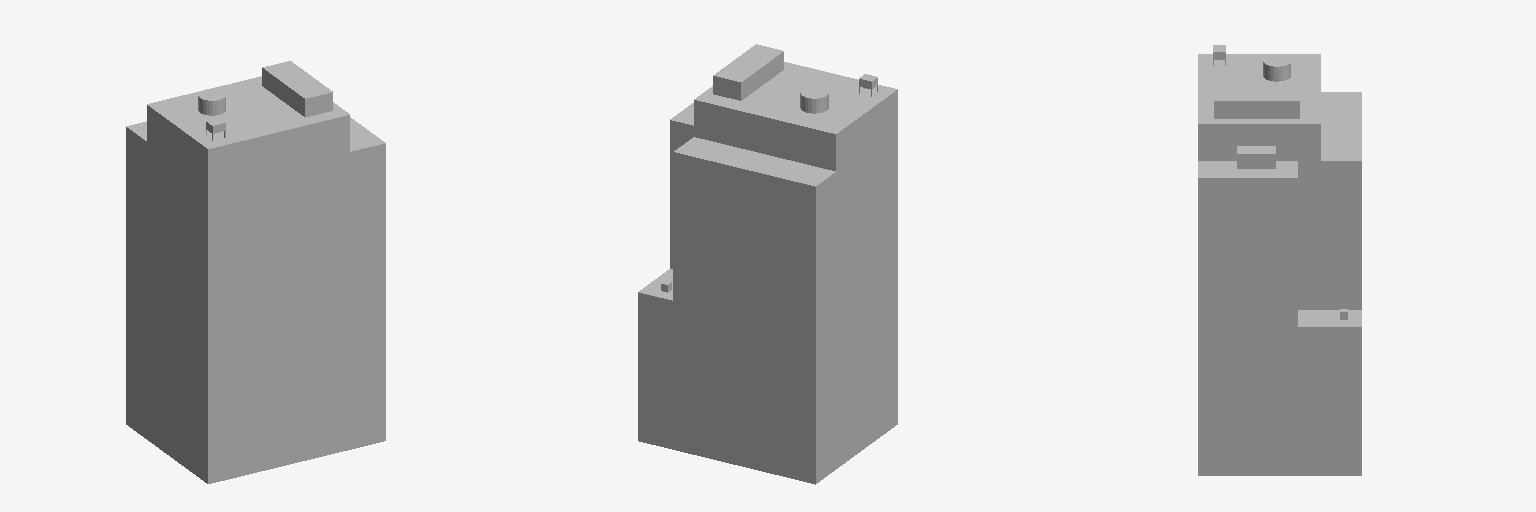
File: highrise-5.obj
3 views of the same model, side by side, from view 1: azimuth 30°, elevation 25°; view 2: azimuth 150°, elevation 25°; view 3: azimuth 270°, elevation 25° (orthographic).
Visible parts, largest first — view 1: Mesh.033_SketchUp_ID2.004, Mesh.029_SketchUp.008_ID2.003, Mesh.003_SketchUp_ID2, Mesh.031_SketchUp.006_ID2.000, Mesh.025_SketchUp.004_ID2.002, Mesh.032_SketchUp.001_ID10.004, Mesh.035_SketchUp.003_ID22.003; view 2: Mesh.003_SketchUp_ID2, Mesh.029_SketchUp.008_ID2.003, Mesh.033_SketchUp_ID2.004, Mesh.025_SketchUp.004_ID2.002, Mesh.031_SketchUp.006_ID2.000, Mesh.032_SketchUp.001_ID10.004, Mesh.035_SketchUp.003_ID22.003; view 3: Mesh.029_SketchUp.008_ID2.003, Mesh.033_SketchUp_ID2.004, Mesh.003_SketchUp_ID2, Mesh.032_SketchUp.001_ID10.004, Mesh.028_SketchUp.009_ID10.003, Mesh.035_SketchUp.003_ID22.003.
Part boxes in pixels (bbox=[...]): Mesh.033_SketchUp_ID2.004: bbox=[147, 76, 349, 483]; Mesh.029_SketchUp.008_ID2.003: bbox=[126, 117, 385, 483]; Mesh.003_SketchUp_ID2: bbox=[126, 121, 349, 482]; Mesh.031_SketchUp.006_ID2.000: bbox=[126, 231, 349, 483]; Mesh.025_SketchUp.004_ID2.002: bbox=[126, 201, 166, 435]; Mesh.032_SketchUp.001_ID10.004: bbox=[262, 61, 332, 117]; Mesh.035_SketchUp.003_ID22.003: bbox=[198, 89, 225, 115]; Mesh.003_SketchUp_ID2: bbox=[673, 137, 897, 484]; Mesh.029_SketchUp.008_ID2.003: bbox=[638, 103, 897, 483]; Mesh.033_SketchUp_ID2.004: bbox=[694, 62, 897, 432]; Mesh.025_SketchUp.004_ID2.002: bbox=[745, 244, 856, 482]; Mesh.031_SketchUp.006_ID2.000: bbox=[754, 204, 897, 483]; Mesh.032_SketchUp.001_ID10.004: bbox=[713, 44, 783, 100]; Mesh.035_SketchUp.003_ID22.003: bbox=[800, 87, 828, 113]; Mesh.029_SketchUp.008_ID2.003: bbox=[1198, 161, 1361, 475]; Mesh.033_SketchUp_ID2.004: bbox=[1198, 54, 1320, 309]; Mesh.003_SketchUp_ID2: bbox=[1298, 92, 1361, 309]; Mesh.032_SketchUp.001_ID10.004: bbox=[1214, 87, 1299, 118]; Mesh.028_SketchUp.009_ID10.003: bbox=[1237, 146, 1275, 168]; Mesh.035_SketchUp.003_ID22.003: bbox=[1263, 55, 1290, 81].
Size of the model in its own units: 985 by 1871 by 788.